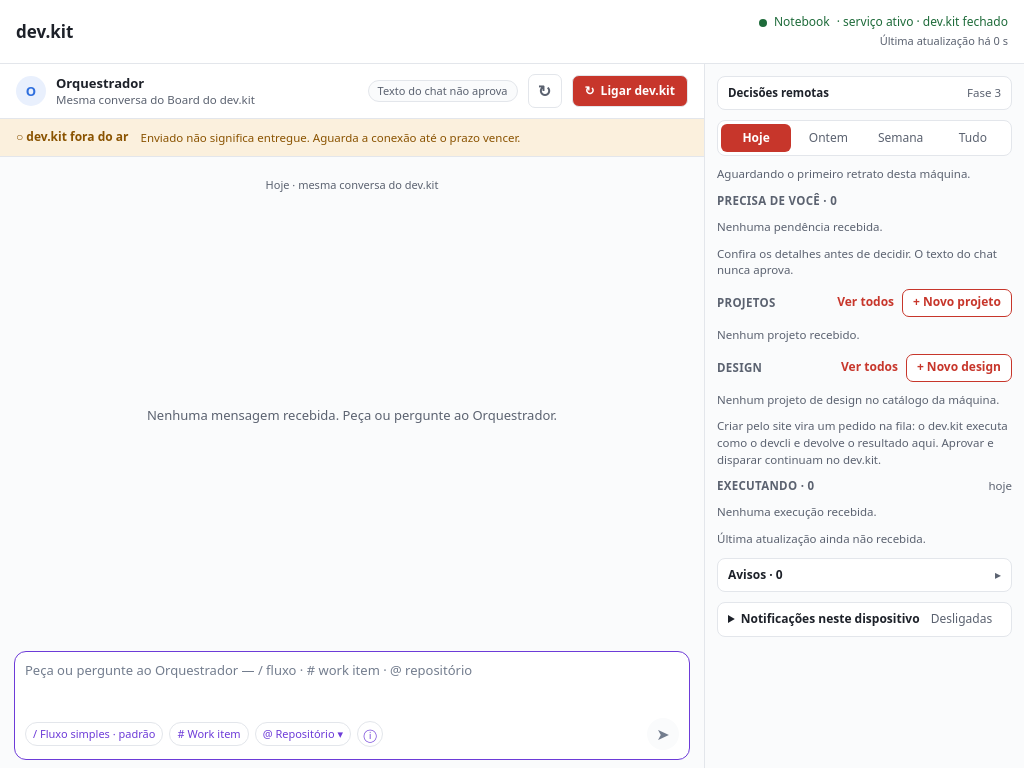
Ligar e Reiniciar o dev.kit pelo site (item 8) › a falha do envio aparece sem fingir que o serviço recebeu
Click the button "↻ Ligar dev.kit" at (630, 91), box [572,75,688,107]
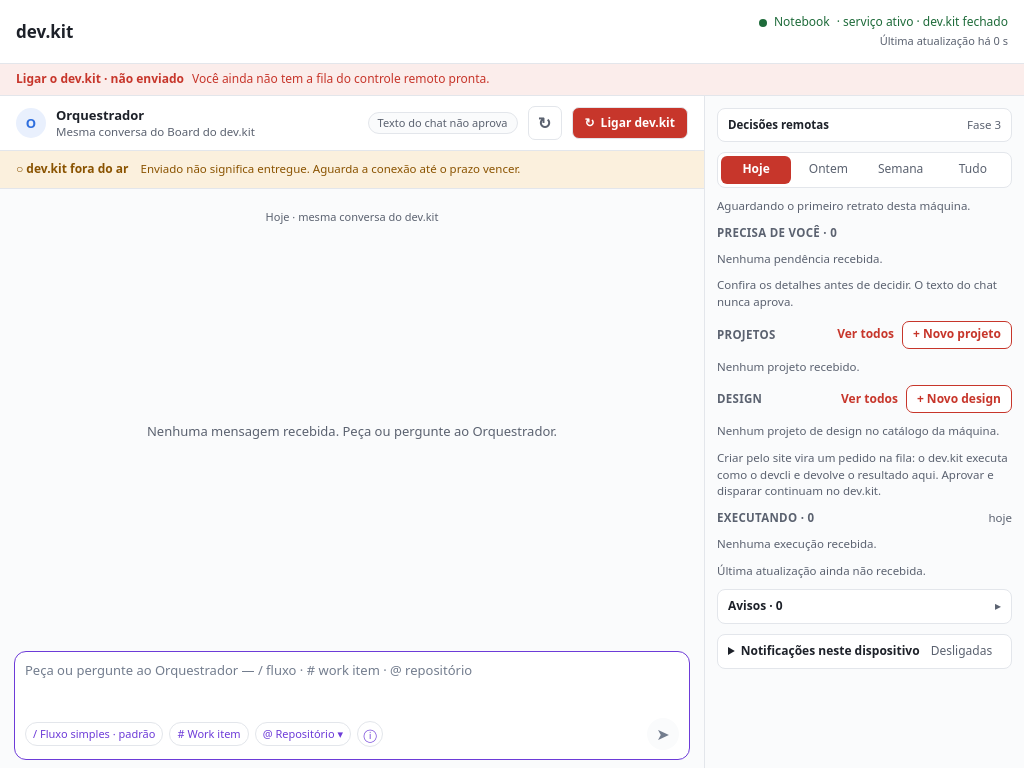
Check: the button "↻ Ligar dev.kit" is enabled, box [572,107,688,139]
Check: the text "Ligar o dev.kit · não enviado" shows "fila do controle remoto pronta", box [192,70,490,87]
